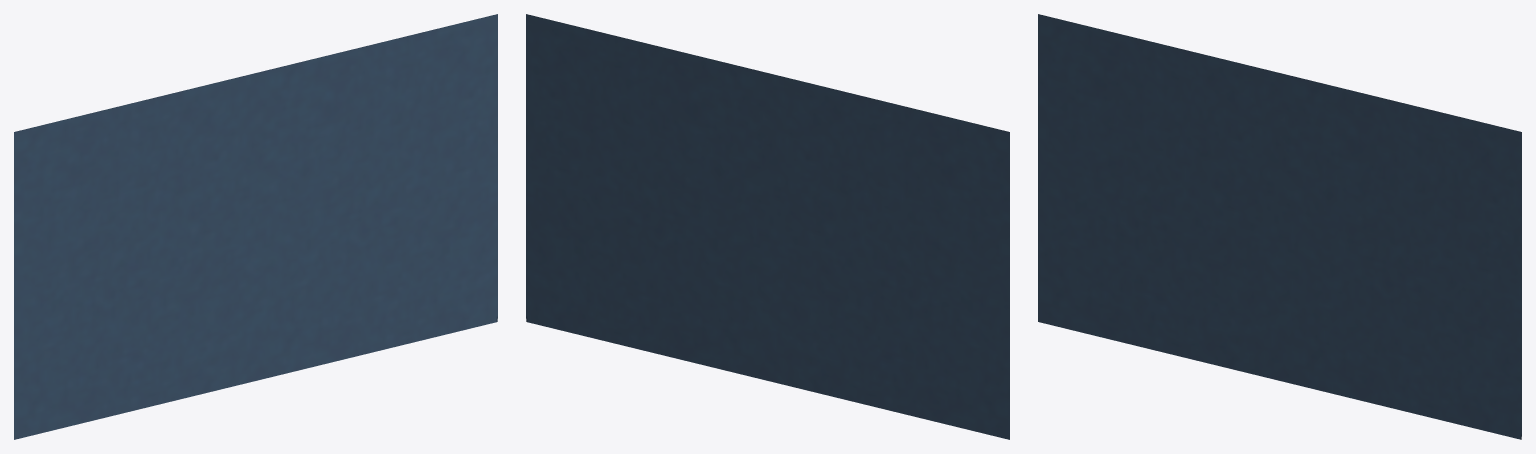
The model's file is marvelous_quad_7300_ascii.fbx.
3 renders of one model, left to right at view 1: azimuth 30°, elevation 25°; view 2: azimuth 150°, elevation 25°; view 3: azimuth 330°, elevation 25°, orthographic.
Visible parts, largest first — view 1: marvelous_quad; view 2: marvelous_quad; view 3: marvelous_quad.
Boxes of the visible parts, bbox=[...] form: marvelous_quad: bbox=[14, 14, 497, 439]; marvelous_quad: bbox=[526, 14, 1009, 439]; marvelous_quad: bbox=[1038, 14, 1521, 439].
Bounding box in the file's own units: 237 × 144 × 3.81e-05.
Materials: 1 (1 with a texture image).
